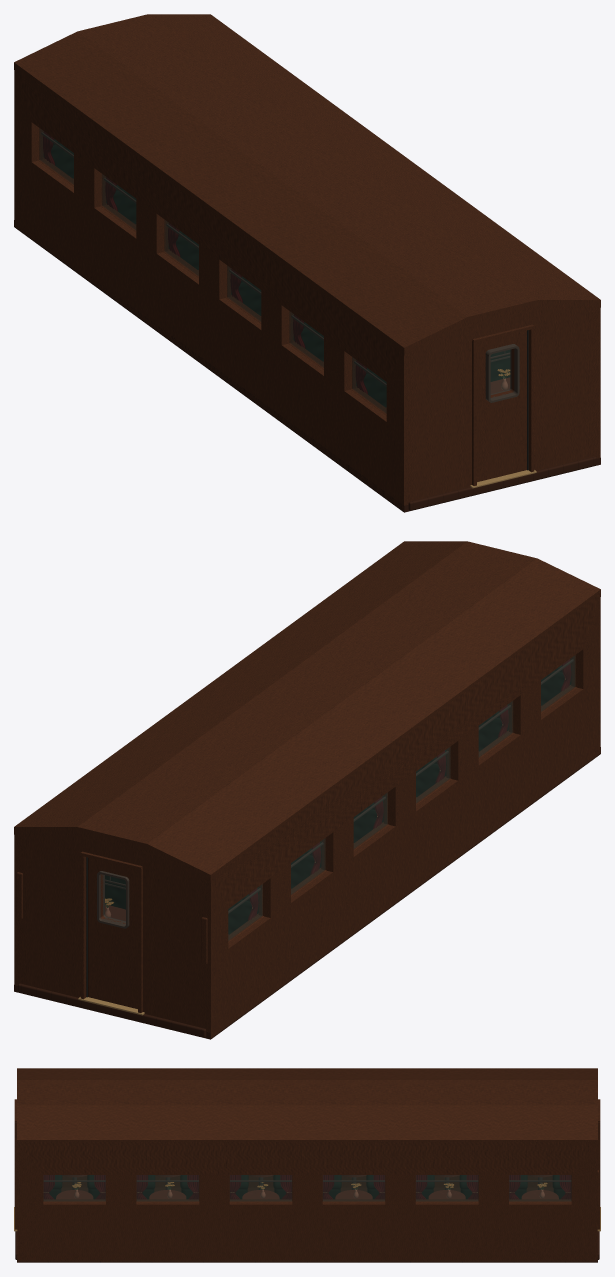
Rendered from train_r05c_material_candidate.glb.
3 views of the same model, one above another, from view 1: azimuth 30°, elevation 25°; view 2: azimuth 150°, elevation 25°; view 3: azimuth 270°, elevation 25° (orthographic). The views are drawn at different scales.
Visible parts, largest first — view 1: Complete profiled roof solid, Left full sidewall with six true apertures, Inferred reverse profiled end wall, End door leaf, Continuous underfloor structural solid, Continuous floor shell, Window sill wooden rail, Window -1 4 real dark glazing, Window -1 1 real dark glazing, Window -1 2 real dark glazing, Window -1 5 real dark glazing, Window -1 6 real dark glazing (+6 smaller); view 2: Complete profiled roof solid, Left full sidewall with six true apertures, Observed forward profiled end wall, End door leaf.001, Continuous floor shell, Window sill wooden rail, Window -1 3 real dark glazing, Window -1 6 real dark glazing, Window -1 1 real dark glazing, Window -1 2 real dark glazing, Window -1 5 real dark glazing, Window -1 4 real dark glazing (+6 smaller); view 3: Right full sidewall with six true apertures, Complete profiled roof solid, Window 1 1 real dark glazing, Window 1 2 real dark glazing, Window 1 5 real dark glazing, Window 1 6 real dark glazing, Window 1 3 real dark glazing, Window 1 4 real dark glazing, Window sill wooden rail.001, Continuous underfloor structural solid, Continuous side floor skirting -1, Continuous floor shell (+9 smaller).
Boxes of the visible parts, x1,y1,x2,y2 form: Complete profiled roof solid: [14, 14, 600, 355]; Left full sidewall with six true apertures: [14, 65, 412, 510]; Inferred reverse profiled end wall: [400, 307, 600, 505]; End door leaf: [477, 330, 526, 481]; Continuous underfloor structural solid: [14, 220, 600, 512]; Continuous floor shell: [408, 456, 596, 510]; Window sill wooden rail: [38, 158, 386, 415]; Window -1 4 real dark glazing: [164, 220, 198, 276]; Window -1 1 real dark glazing: [352, 357, 386, 413]; Window -1 2 real dark glazing: [289, 311, 323, 367]; Window -1 5 real dark glazing: [102, 174, 136, 230]; Window -1 6 real dark glazing: [39, 128, 73, 184]; Complete profiled roof solid: [14, 541, 600, 882]; Left full sidewall with six true apertures: [202, 592, 600, 1037]; Observed forward profiled end wall: [14, 834, 214, 1031]; End door leaf.001: [88, 857, 137, 1008]; Continuous floor shell: [18, 983, 206, 1037]; Window sill wooden rail: [228, 685, 576, 942]; Window -1 3 real dark glazing: [416, 747, 450, 803]; Window -1 6 real dark glazing: [228, 884, 262, 940]; Window -1 1 real dark glazing: [541, 655, 575, 711]; Window -1 2 real dark glazing: [478, 701, 512, 757]; Window -1 5 real dark glazing: [291, 838, 325, 894]; Window -1 4 real dark glazing: [353, 793, 387, 848]; Right full sidewall with six true apertures: [17, 1142, 597, 1261]; Complete profiled roof solid: [17, 1068, 597, 1145]; Window 1 1 real dark glazing: [43, 1175, 105, 1201]; Window 1 2 real dark glazing: [136, 1175, 198, 1201]; Window 1 5 real dark glazing: [416, 1175, 478, 1201]; Window 1 6 real dark glazing: [509, 1175, 571, 1201]; Window 1 3 real dark glazing: [230, 1175, 291, 1201]; Window 1 4 real dark glazing: [323, 1175, 384, 1201]; Window sill wooden rail.001: [43, 1199, 571, 1202]; Continuous underfloor structural solid: [17, 1256, 597, 1262]; Continuous side floor skirting -1: [62, 1180, 552, 1187]; Continuous floor shell: [15, 1187, 599, 1259].
Size of the model in its own units: 3.27 by 2.86 by 11.35.
19 materials, 7 textured.
